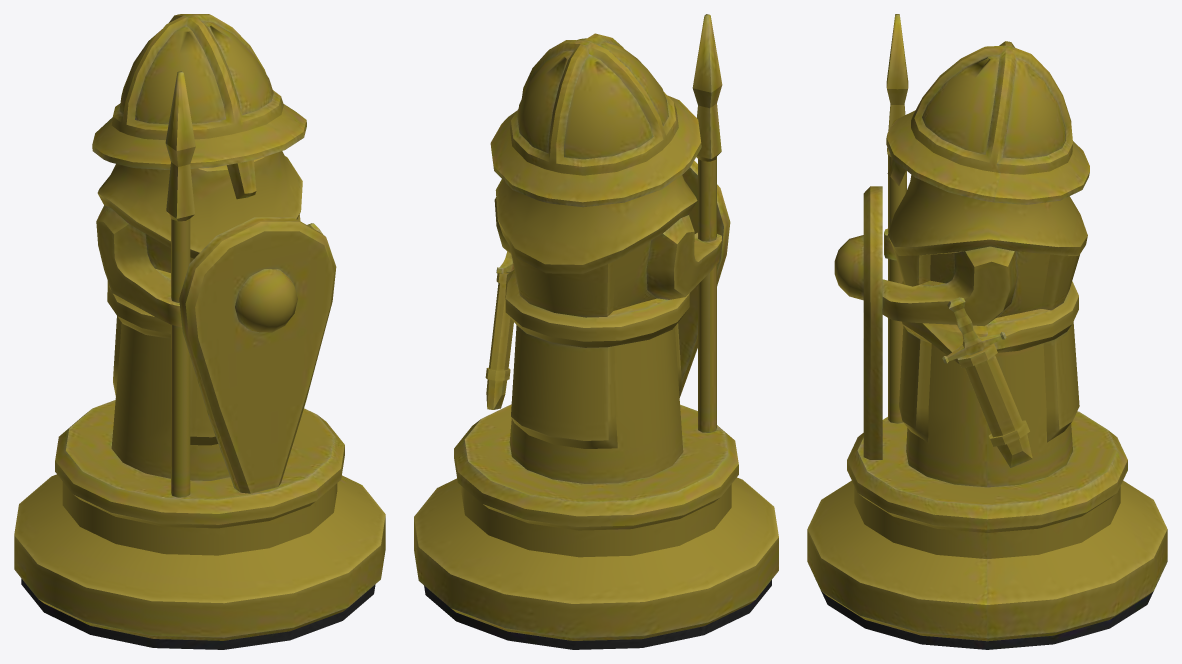
3 views of the same model, side by side, from view 1: azimuth 30°, elevation 25°; view 2: azimuth 150°, elevation 25°; view 3: azimuth 270°, elevation 25° (orthographic). The views are drawn at different scales.
Visible parts, largest first — view 1: Object_10.001; view 2: Object_10.001; view 3: Object_10.001.
Part boxes in pixels (box(x1,y1,x2,y2)): Object_10.001: box(14, 14, 385, 649); Object_10.001: box(414, 14, 778, 649); Object_10.001: box(807, 14, 1167, 649).
Bounding box in the file's own units: 0.9 × 1.46 × 0.9.
1 material, 1 textured.
